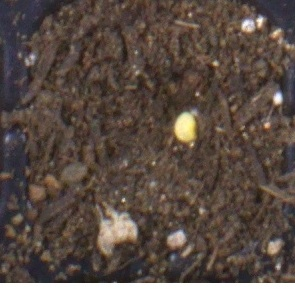chilli seed: (173, 110, 198, 143)
